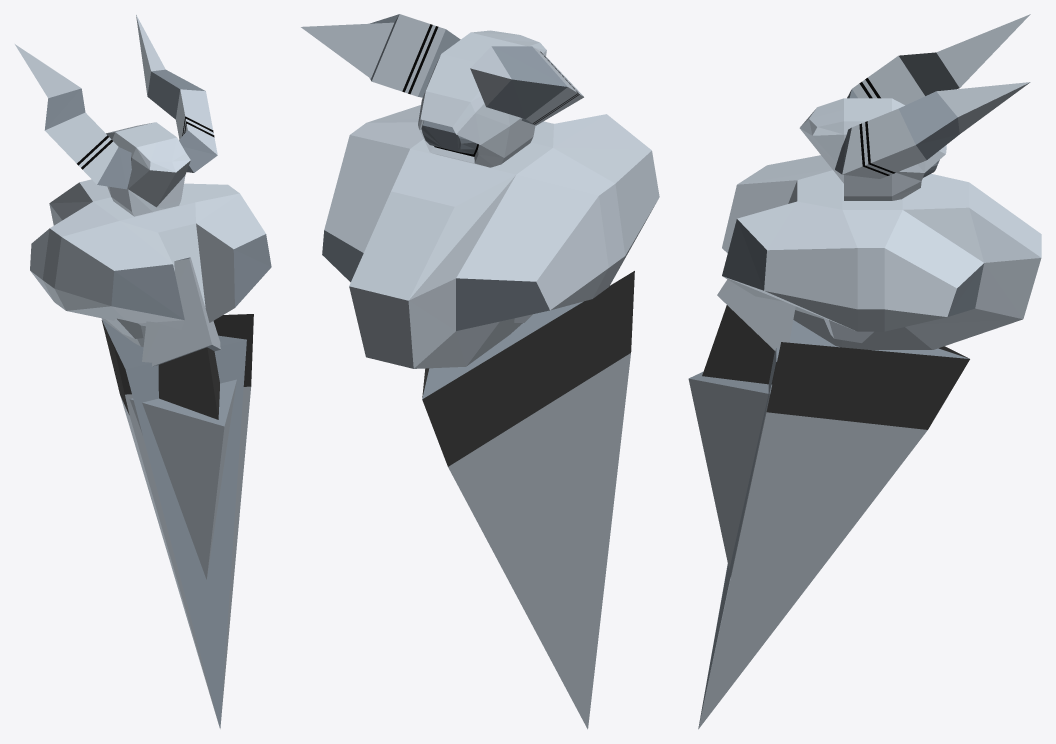
The model's file is MainUnit.FBX.
3 views of the same model, side by side, from view 1: azimuth 30°, elevation 25°; view 2: azimuth 150°, elevation 25°; view 3: azimuth 270°, elevation 25° (orthographic). The views are drawn at different scales.
Visible parts, largest first — view 1: VIFS001, VIFS016, VIFS018, VIFS005, VIFS002, VIFS015, VIFS011, VIFS020, VIFS008, VIFS009, VIFS012, VIFS014 (+1 smaller); view 2: VIFS001, VIFS015, VIFS014, VIFS005, VIFS008, VIFS002, VIFS012, VIFS011, VIFS016, VIFS003, VIFS009; view 3: VIFS001, VIFS015, VIFS014, VIFS018, VIFS008, VIFS005, VIFS011, VIFS020, VIFS002, VIFS009, VIFS016, VIFS012 (+1 smaller).
Part boxes in pixels (left/top/right/bottom): VIFS001: left=30, top=179, right=265, bottom=346; VIFS016: left=102, top=319, right=246, bottom=728; VIFS018: left=129, top=257, right=236, bottom=579; VIFS005: left=106, top=122, right=190, bottom=216; VIFS002: left=111, top=234, right=271, bottom=320; VIFS015: left=106, top=318, right=250, bottom=727; VIFS011: left=15, top=44, right=118, bottom=184; VIFS020: left=158, top=347, right=219, bottom=419; VIFS008: left=136, top=14, right=217, bottom=154; VIFS009: left=147, top=69, right=217, bottom=172; VIFS012: left=44, top=88, right=131, bottom=189; VIFS014: left=101, top=314, right=253, bottom=414; VIFS001: left=324, top=105, right=659, bottom=368; VIFS015: left=448, top=314, right=630, bottom=729; VIFS014: left=422, top=271, right=634, bottom=466; VIFS005: left=418, top=30, right=546, bottom=167; VIFS008: left=301, top=14, right=445, bottom=96; VIFS002: left=322, top=230, right=549, bottom=330; VIFS012: left=486, top=46, right=567, bottom=125; VIFS011: left=470, top=46, right=583, bottom=125; VIFS016: left=422, top=301, right=583, bottom=399; VIFS003: left=421, top=120, right=477, bottom=154; VIFS009: left=369, top=14, right=460, bottom=97; VIFS001: left=722, top=155, right=1041, bottom=349; VIFS015: left=698, top=318, right=927, bottom=729; VIFS014: left=766, top=342, right=969, bottom=429; VIFS018: left=688, top=279, right=795, bottom=576; VIFS008: left=842, top=82, right=1030, bottom=178; VIFS005: left=799, top=98, right=946, bottom=200; VIFS011: left=852, top=14, right=1030, bottom=105; VIFS020: left=702, top=305, right=776, bottom=384; VIFS002: left=722, top=219, right=983, bottom=316; VIFS009: left=835, top=91, right=959, bottom=174; VIFS016: left=698, top=320, right=969, bottom=726; VIFS012: left=847, top=52, right=959, bottom=98.
Size of the model in its own units: 0.5708 by 1.69 by 0.7908.
